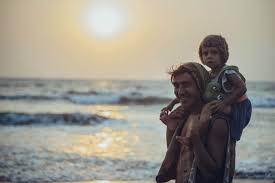Person: (155, 62, 236, 183), (176, 35, 252, 149)
